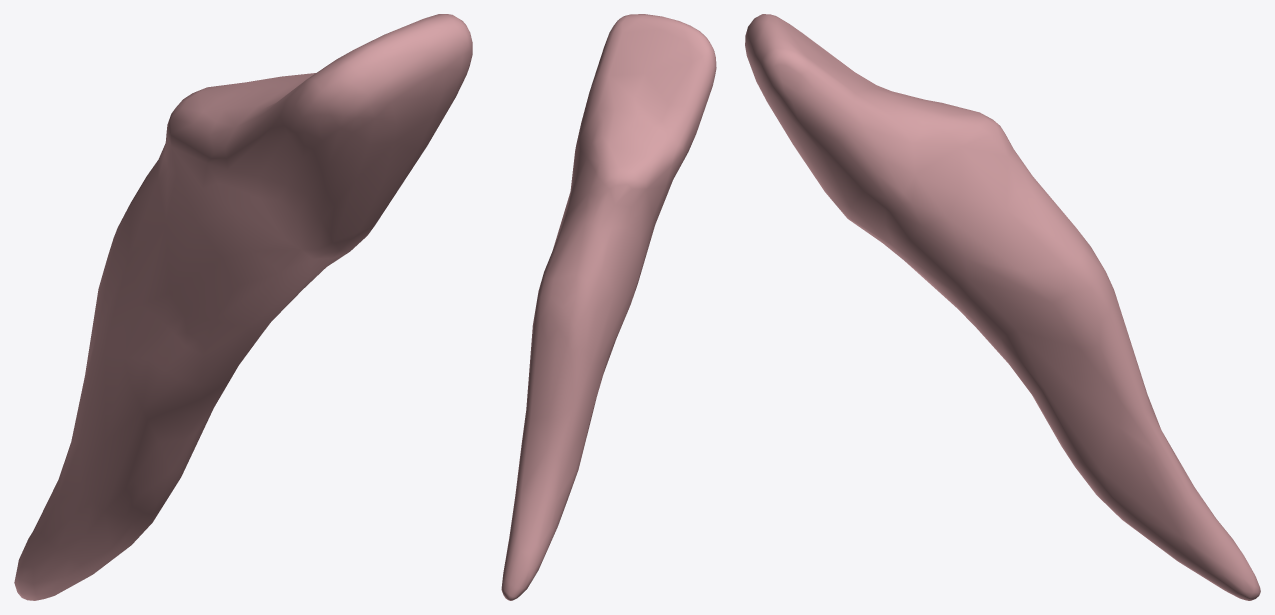
Rendered from fma57143_mm815.glb.
3 views of the same model, side by side, from view 1: azimuth 30°, elevation 25°; view 2: azimuth 150°, elevation 25°; view 3: azimuth 270°, elevation 25° (orthographic). The views are drawn at different scales.
Visible parts, largest first — view 1: FMA57143_MM815; view 2: FMA57143_MM815; view 3: FMA57143_MM815.
Part boxes in pixels (x1,y1,x2,y2): FMA57143_MM815: (14, 14, 472, 600); FMA57143_MM815: (501, 14, 716, 600); FMA57143_MM815: (745, 14, 1260, 600).
Bounding box in the file's own units: 0.00544 × 0.0223 × 0.0176.
